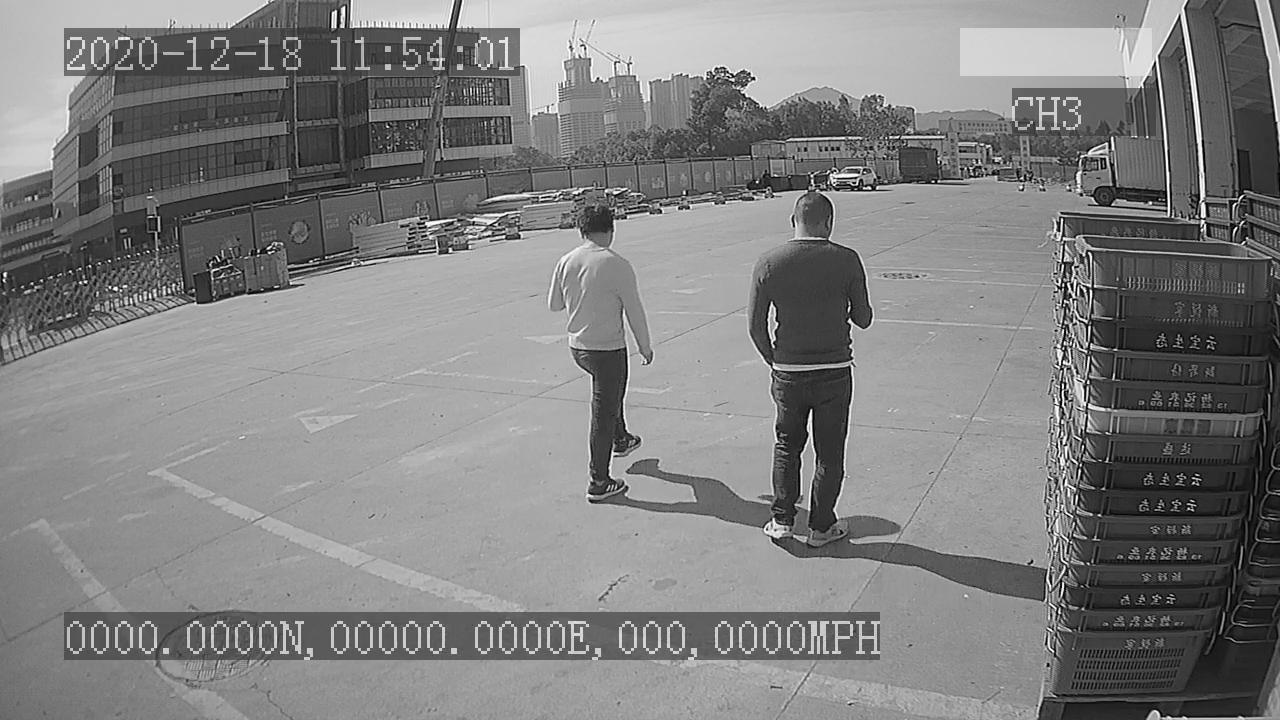person: (740, 185, 877, 560), (543, 201, 661, 504)
